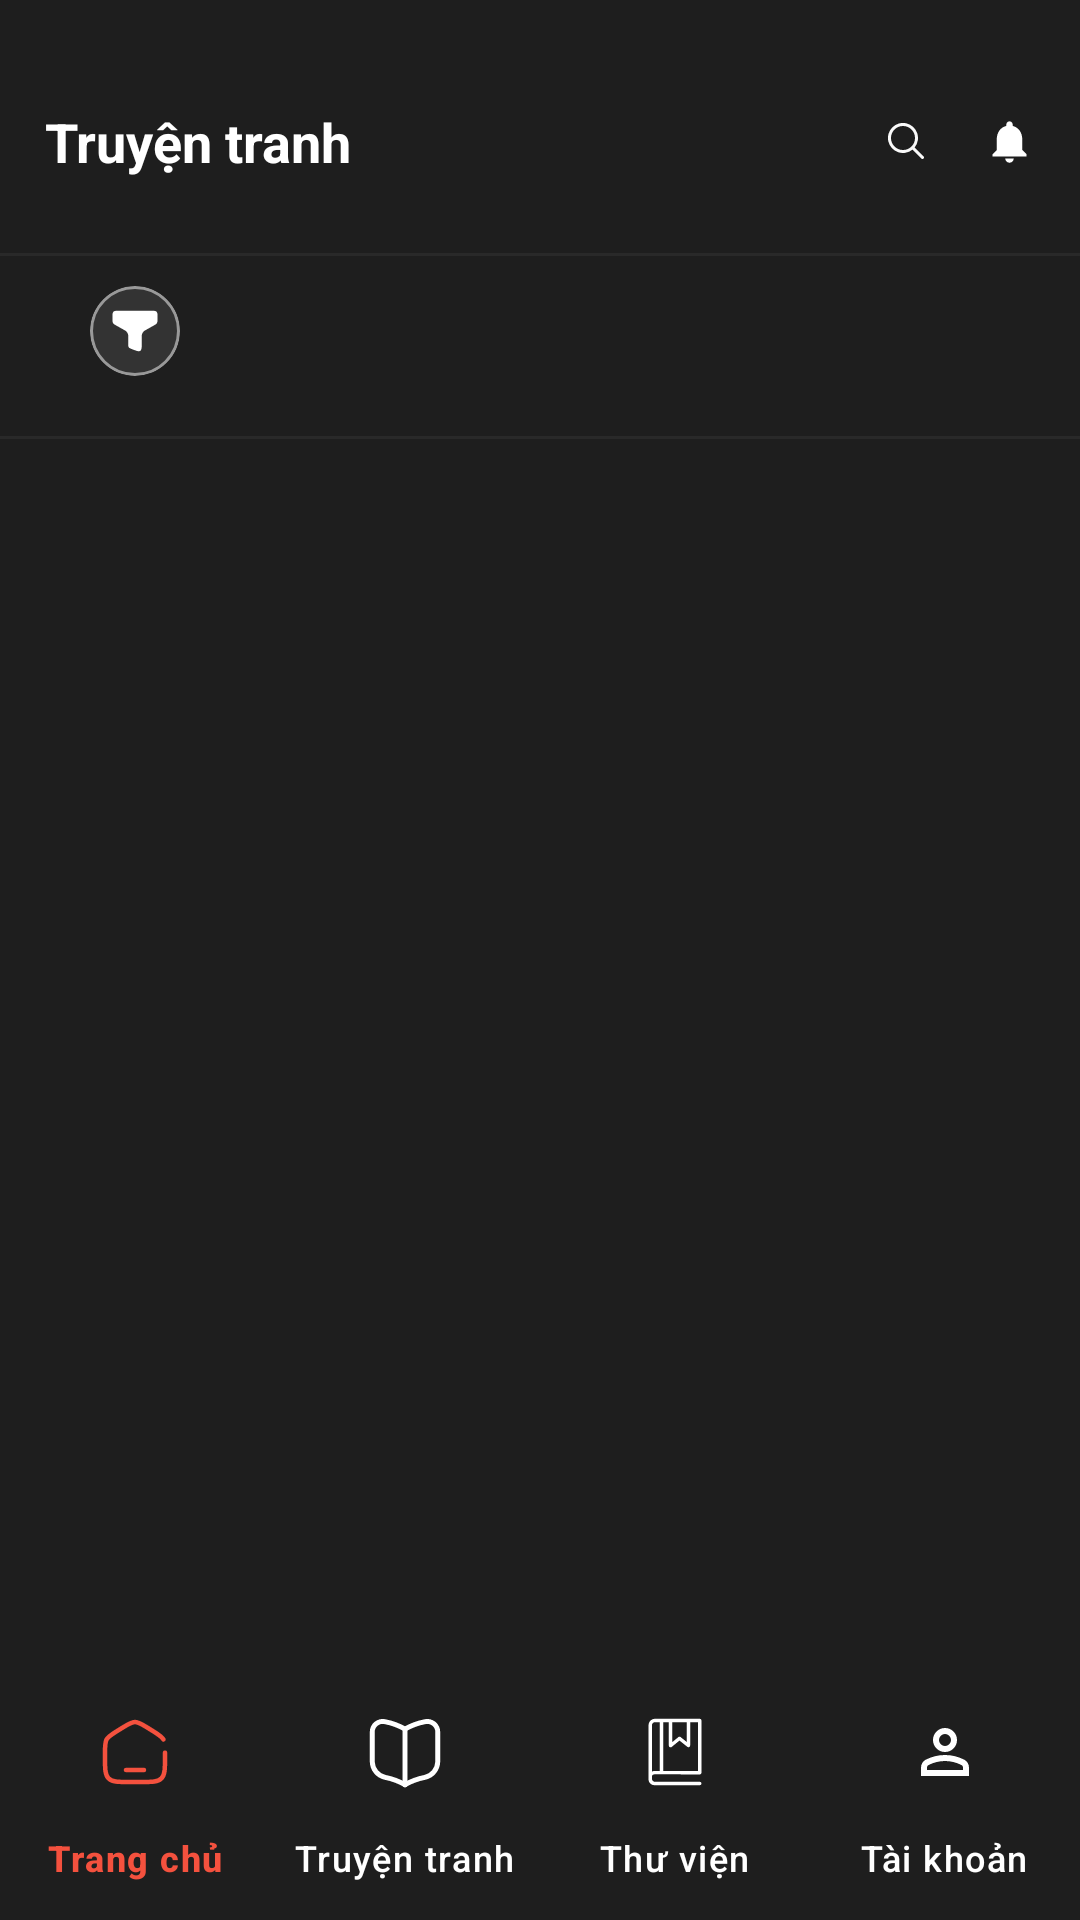

Icon bounding boxes for this 1080*1920 phone screenshot, format (x1, y1, x2, y2):
filter: (112, 310, 158, 352)
notification: (992, 121, 1027, 163)
search: (888, 123, 924, 159)
